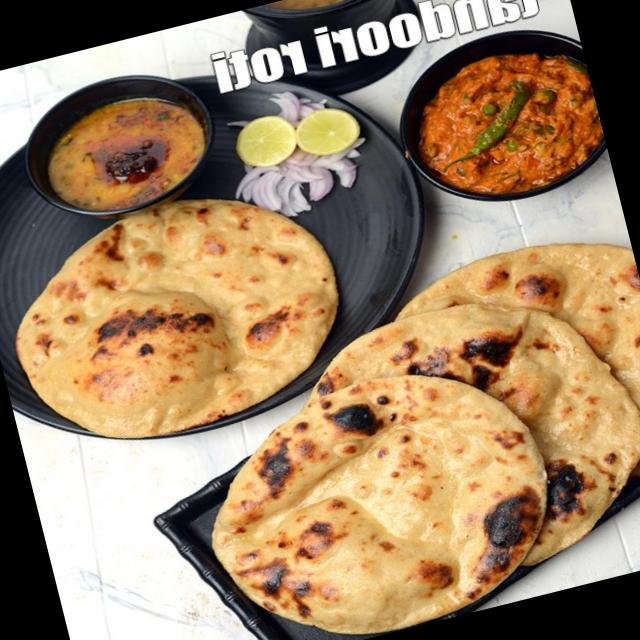roti: (211, 245, 640, 636), (14, 203, 337, 440)
